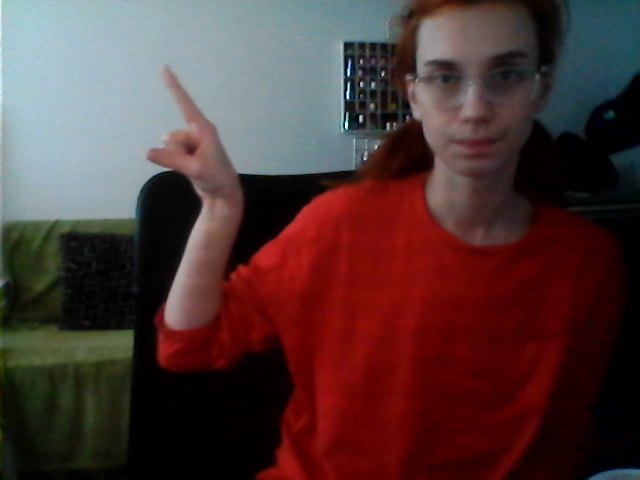on: (125, 57, 260, 222)
